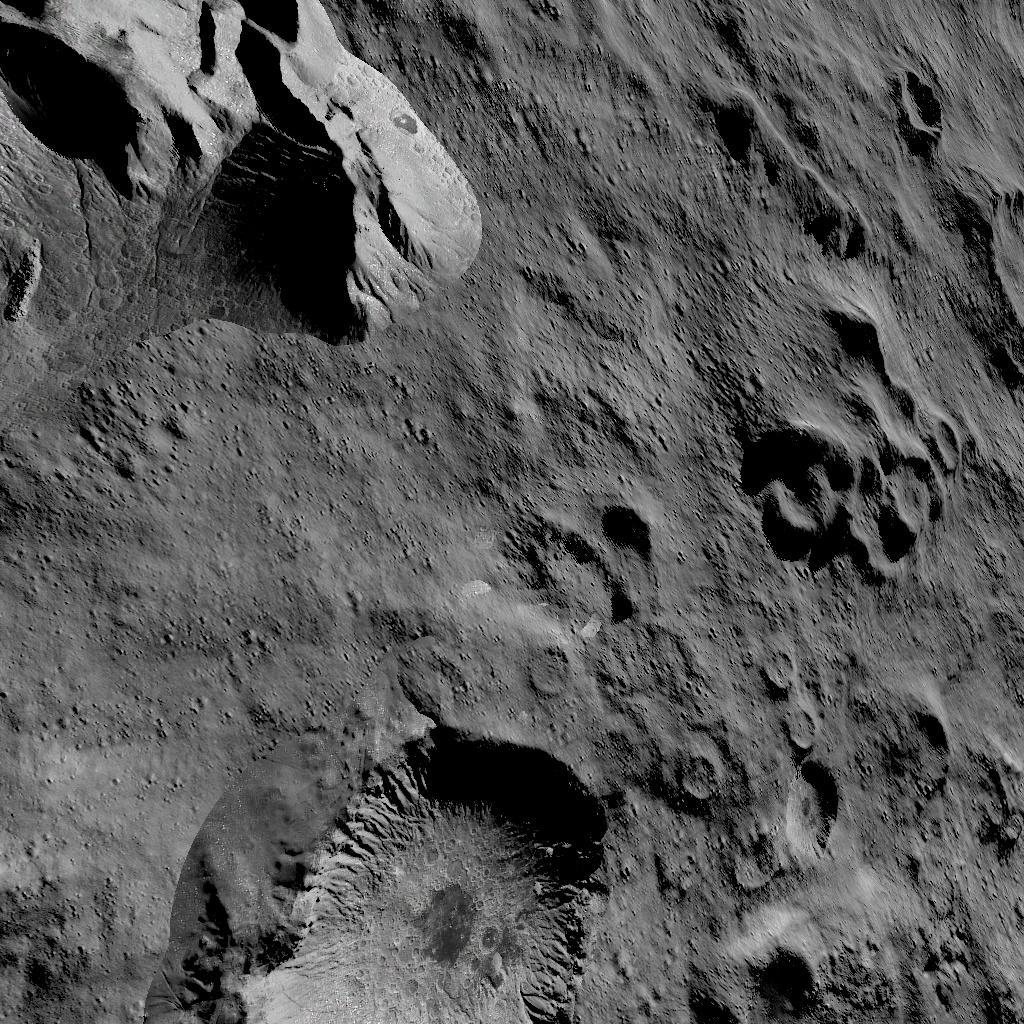Boulders: (1, 0, 493, 455)
Crater: (187, 716, 637, 1024), (737, 302, 970, 570), (753, 638, 848, 870), (539, 504, 668, 625), (681, 924, 834, 1024), (977, 174, 1024, 366), (891, 700, 961, 817), (889, 60, 957, 152), (517, 642, 588, 698), (673, 750, 728, 806)
Plan surface: (1, 464, 504, 704), (518, 0, 717, 489), (3, 710, 176, 1024)
